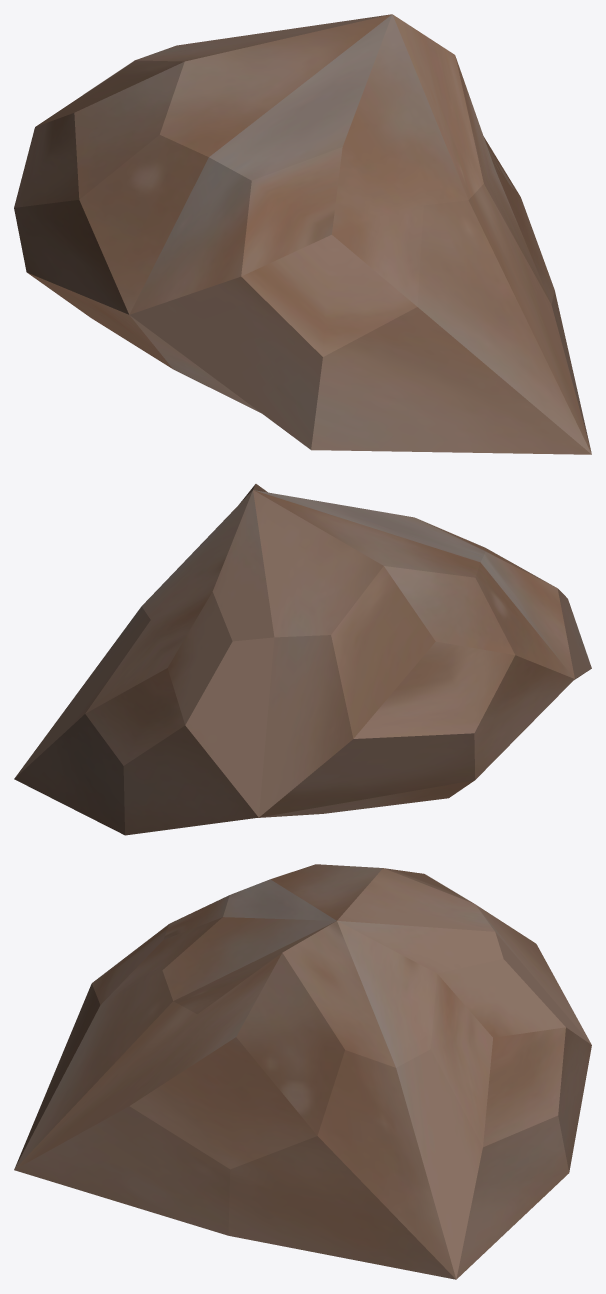
Rendered from rubble_4.fbx.
3 views of the same model, one above another, from view 1: azimuth 30°, elevation 25°; view 2: azimuth 150°, elevation 25°; view 3: azimuth 270°, elevation 25° (orthographic). The views are drawn at different scales.
Visible parts, largest first — view 1: rock.008; view 2: rock.008; view 3: rock.008.
Boxes of the visible parts, left/top/right/bottom form: rock.008: left=14, top=14, right=591, bottom=454; rock.008: left=14, top=484, right=591, bottom=835; rock.008: left=14, top=864, right=591, bottom=1279.
Size of the model in its own units: 136 by 82.64 by 157.
